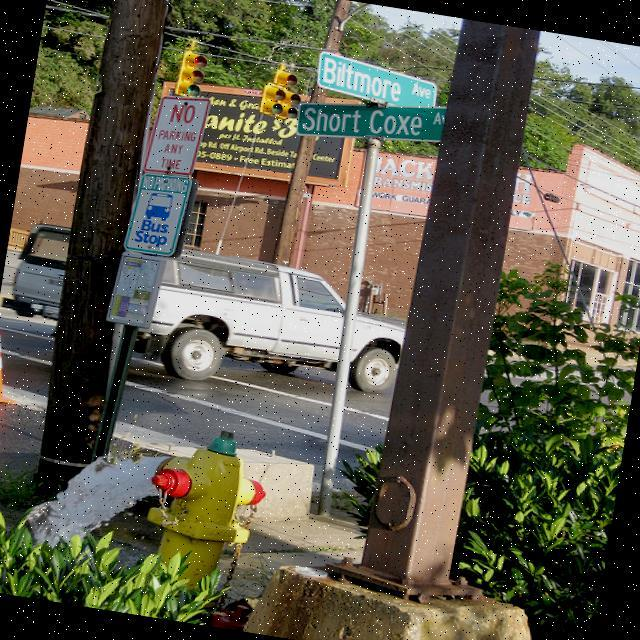fire_hydrant: (130, 422, 276, 596)
